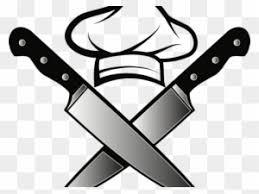Knife: (63, 25, 250, 187)
